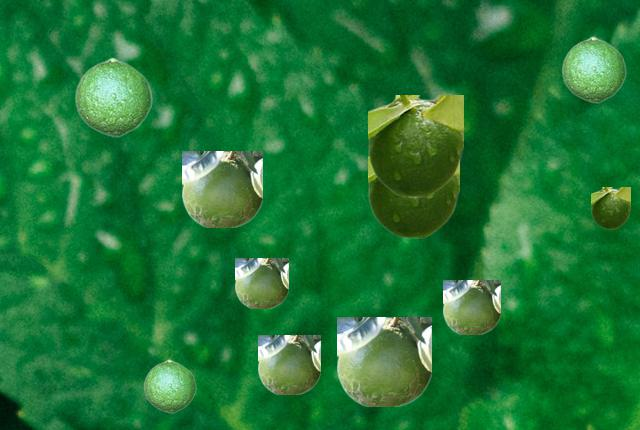dalandan: (368, 95, 462, 196), (337, 317, 430, 405), (368, 161, 458, 237), (74, 57, 151, 136), (182, 151, 261, 226), (561, 36, 625, 102), (258, 335, 319, 393), (443, 280, 499, 333), (143, 359, 195, 412), (235, 258, 287, 307), (591, 187, 629, 228)
